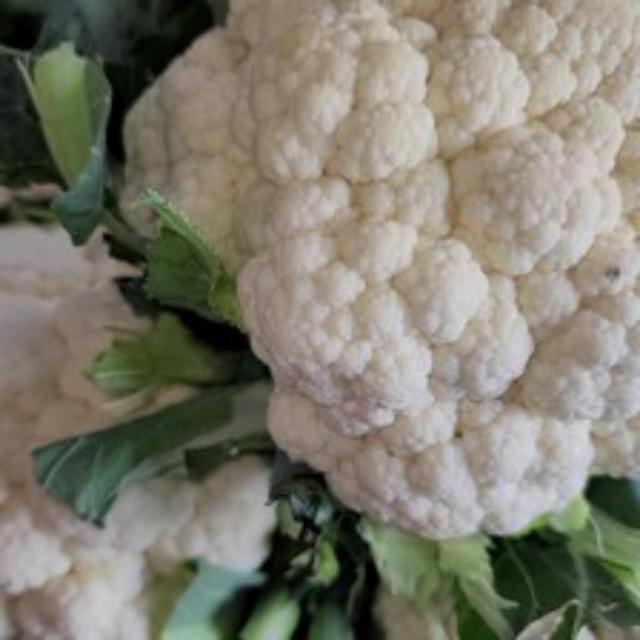cauliflower: (105, 0, 636, 548)
